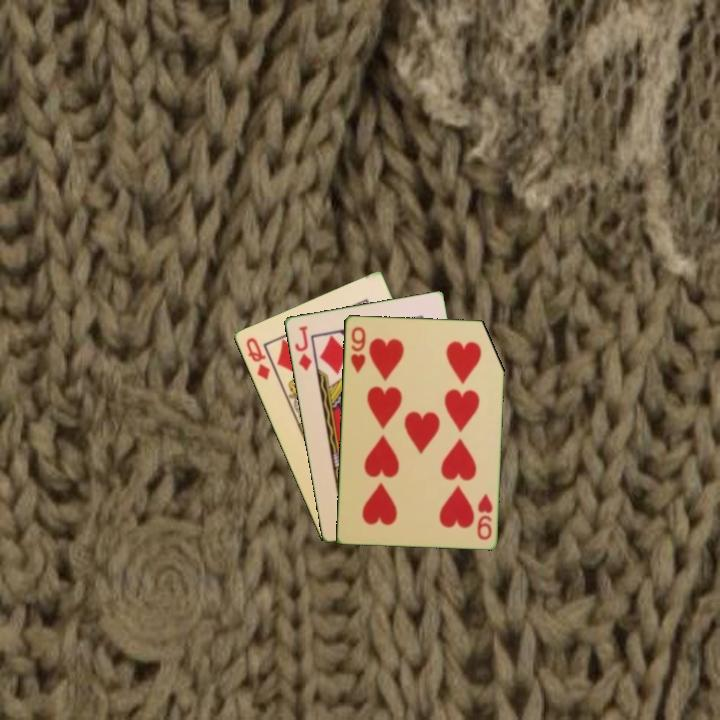9h: (473, 490, 495, 543), (347, 323, 368, 376)
Jd: (291, 322, 315, 374)
Qd: (242, 334, 273, 383)
